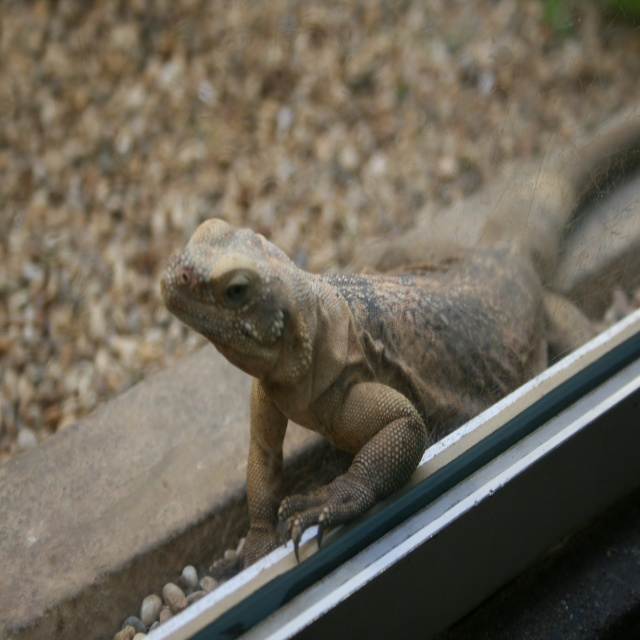Lizard: (157, 103, 638, 569)
